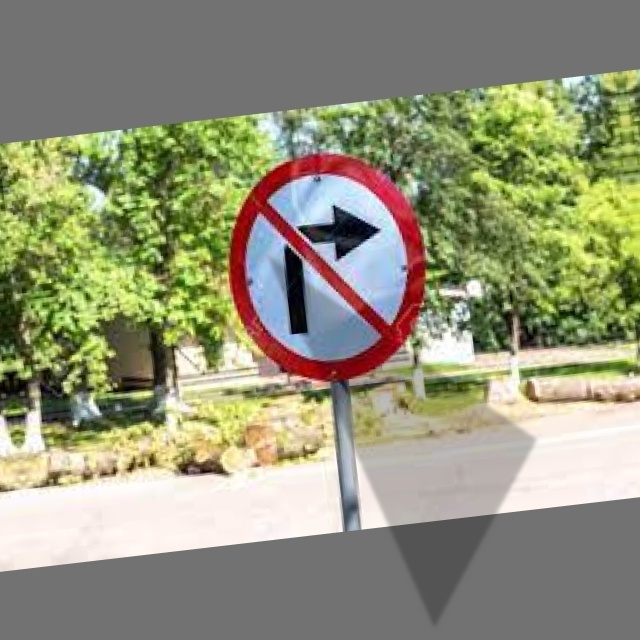Right_Turn_Prohibited: (214, 140, 436, 387)
